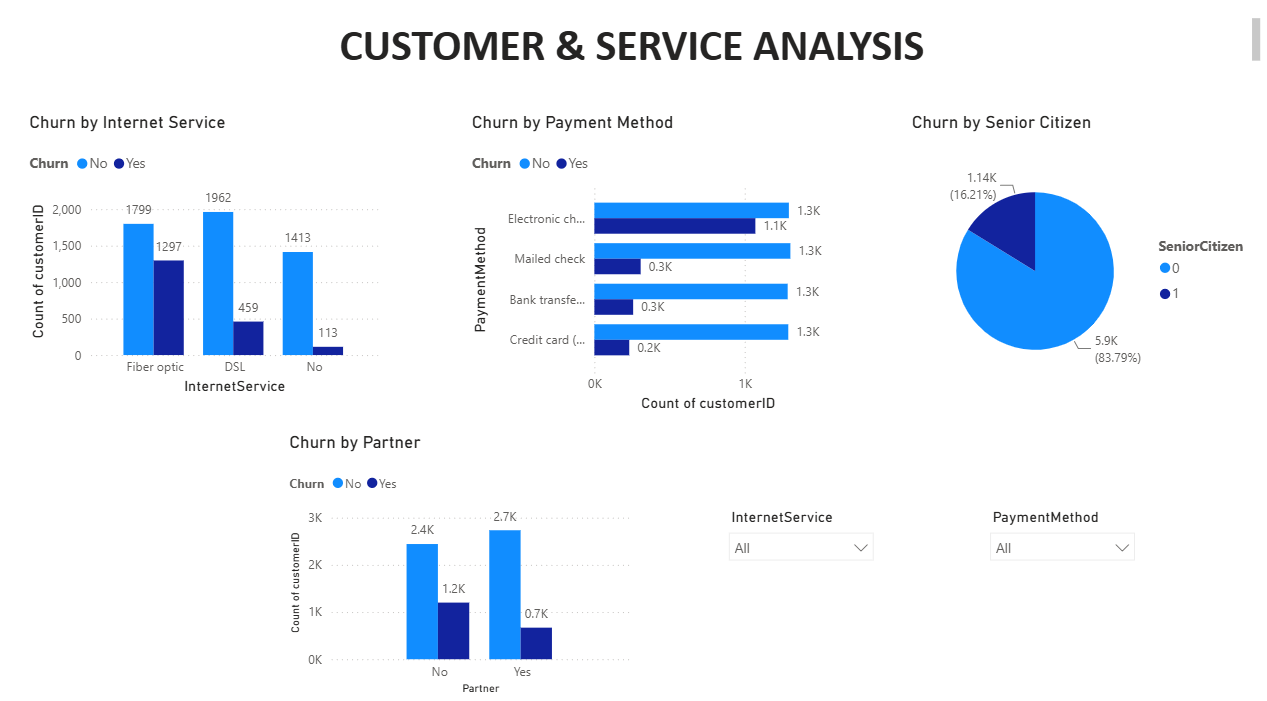

This screenshot's page, from the dashboard's own definition file:
{"tool":"powerbi","page":{"name":"Customer & Service","canvas":[1280,720],"ordinal":1},"visuals":[{"type":"textbox","box":[23.3,35.7,1232.3,56.3],"z":0},{"type":"clusteredColumnChart","title":"Churn by Internet Service","fields":{"Category":["Telco_Customer_Churn.InternetService"],"Series":["Telco_Customer_Churn.Churn"],"Y":["CountNonNull(Telco_Customer_Churn.customerID)"]},"box":[41.2,131.7,351.3,281.3],"z":1},{"type":"clusteredBarChart","title":"Churn by Payment Method","fields":{"Category":["Telco_Customer_Churn.PaymentMethod"],"Y":["CountNonNull(Telco_Customer_Churn.customerID)"],"Series":["Telco_Customer_Churn.Churn"]},"box":[474.8,131.7,359.5,297.8],"z":2},{"type":"pieChart","title":"Churn by Senior Citizen","fields":{"Category":["Telco_Customer_Churn.SeniorCitizen"],"Y":["CountNonNull(Telco_Customer_Churn.customerID)"]},"box":[904.3,131.7,351,281],"z":3},{"type":"clusteredColumnChart","title":"Churn by Partner","fields":{"Category":["Telco_Customer_Churn.Partner"],"Y":["CountNonNull(Telco_Customer_Churn.customerID)"],"Series":["Telco_Customer_Churn.Churn"]},"box":[296.4,444.6,343.1,262.1],"z":4},{"type":"slicer","fields":{"Values":["Telco_Customer_Churn.InternetService"]},"box":[720.4,514.6,161.9,122.1],"z":5},{"type":"slicer","fields":{"Values":["Telco_Customer_Churn.PaymentMethod"]},"box":[975.6,514.6,161.9,122.1],"z":6}]}

Visuals, with their boxes in screenshot pixels (x1, y1, x2, y2), scaled from the page's 1280x720 canvas onto the 1267x701 screenshot:
textbox: pyautogui.locateOnScreen(23, 35, 1243, 90)
"Churn by Internet Service" clusteredColumnChart: pyautogui.locateOnScreen(41, 128, 389, 402)
"Churn by Payment Method" clusteredBarChart: pyautogui.locateOnScreen(470, 128, 826, 418)
"Churn by Senior Citizen" pieChart: pyautogui.locateOnScreen(895, 128, 1243, 402)
"Churn by Partner" clusteredColumnChart: pyautogui.locateOnScreen(293, 433, 633, 688)
slicer - Telco_Customer_Churn.InternetService: pyautogui.locateOnScreen(713, 501, 873, 620)
slicer - Telco_Customer_Churn.PaymentMethod: pyautogui.locateOnScreen(966, 501, 1126, 620)
